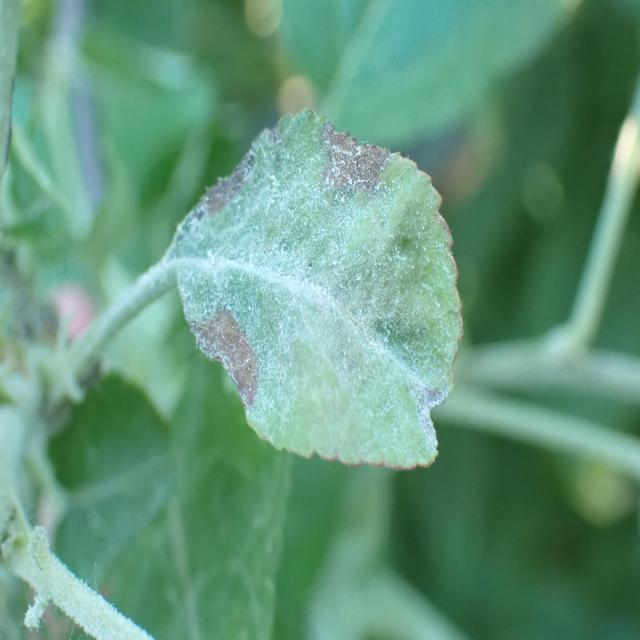Powdery_mildew: (150, 105, 454, 486)
